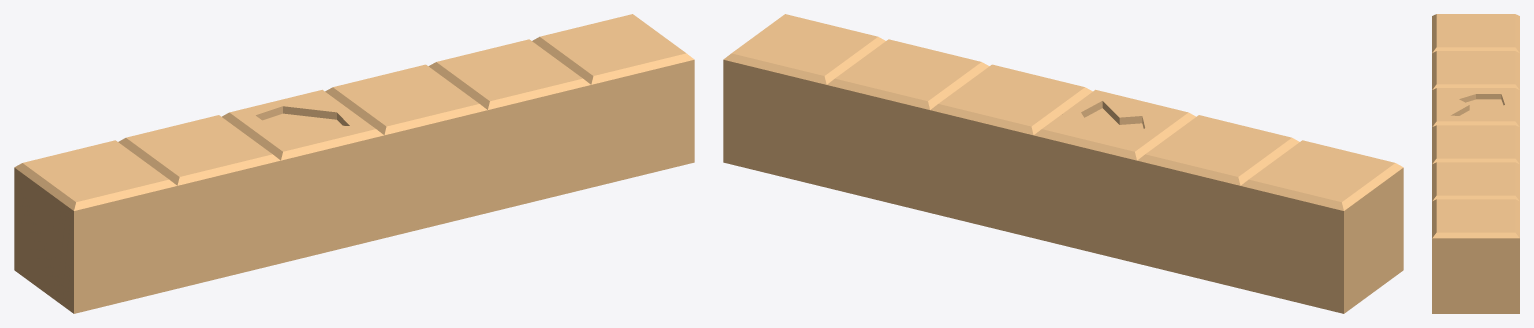
Rendered from 6x1Floor.fbx.
3 renders of one model, left to right at view 1: azimuth 30°, elevation 25°; view 2: azimuth 150°, elevation 25°; view 3: azimuth 270°, elevation 25°, orthographic. The views are drawn at different scales.
Parts seen in each view (by area): view 1: Cube; view 2: Cube; view 3: Cube.
Part boxes in pixels (left/top/right/bottom): Cube: left=14, top=14, right=694, bottom=313; Cube: left=723, top=14, right=1403, bottom=313; Cube: left=1432, top=14, right=1519, bottom=313.
Size of the model in its own units: 600 by 100 by 100.
